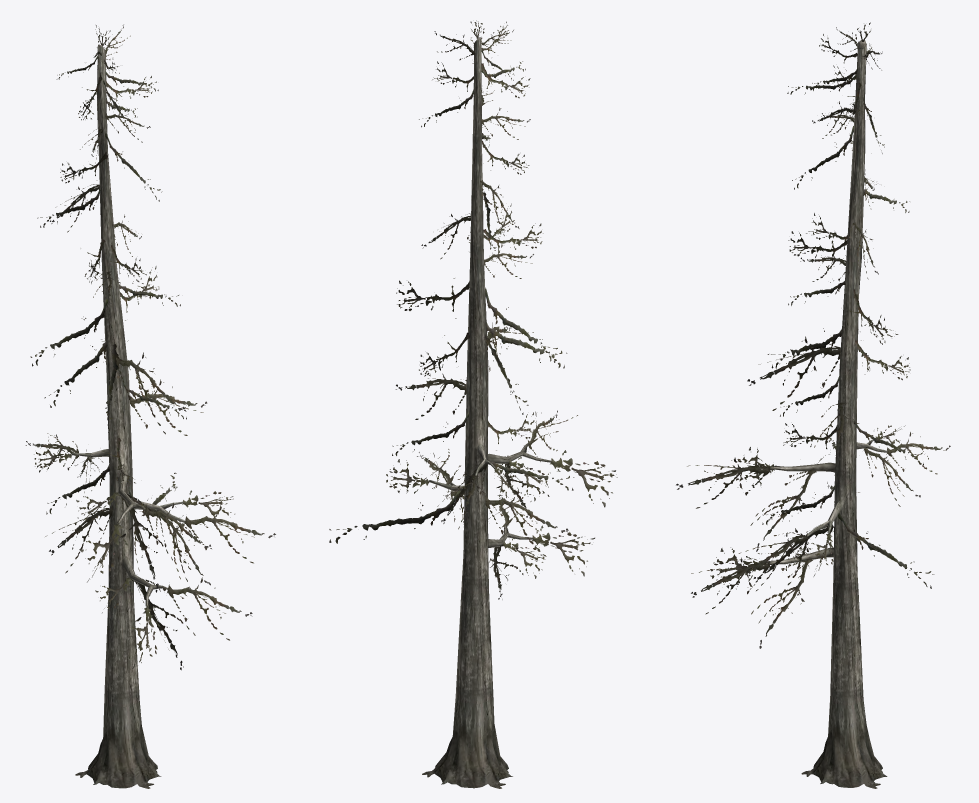
The model's file is tree_dry02.glb.
3 renders of one model, left to right at view 1: azimuth 30°, elevation 25°; view 2: azimuth 150°, elevation 25°; view 3: azimuth 270°, elevation 25°, orthographic. The views are drawn at different scales.
Visible parts, largest first — view 1: 0_Arbre01_b; view 2: 0_Arbre01_b; view 3: 0_Arbre01_b.
Part boxes in pixels (x1,y1,x2,y2): 0_Arbre01_b: (25, 24, 275, 788); 0_Arbre01_b: (329, 20, 617, 788); 0_Arbre01_b: (676, 22, 950, 788).
Bounding box in the file's own units: 4.04 × 12.88 × 4.74.
1 material, 1 textured.
